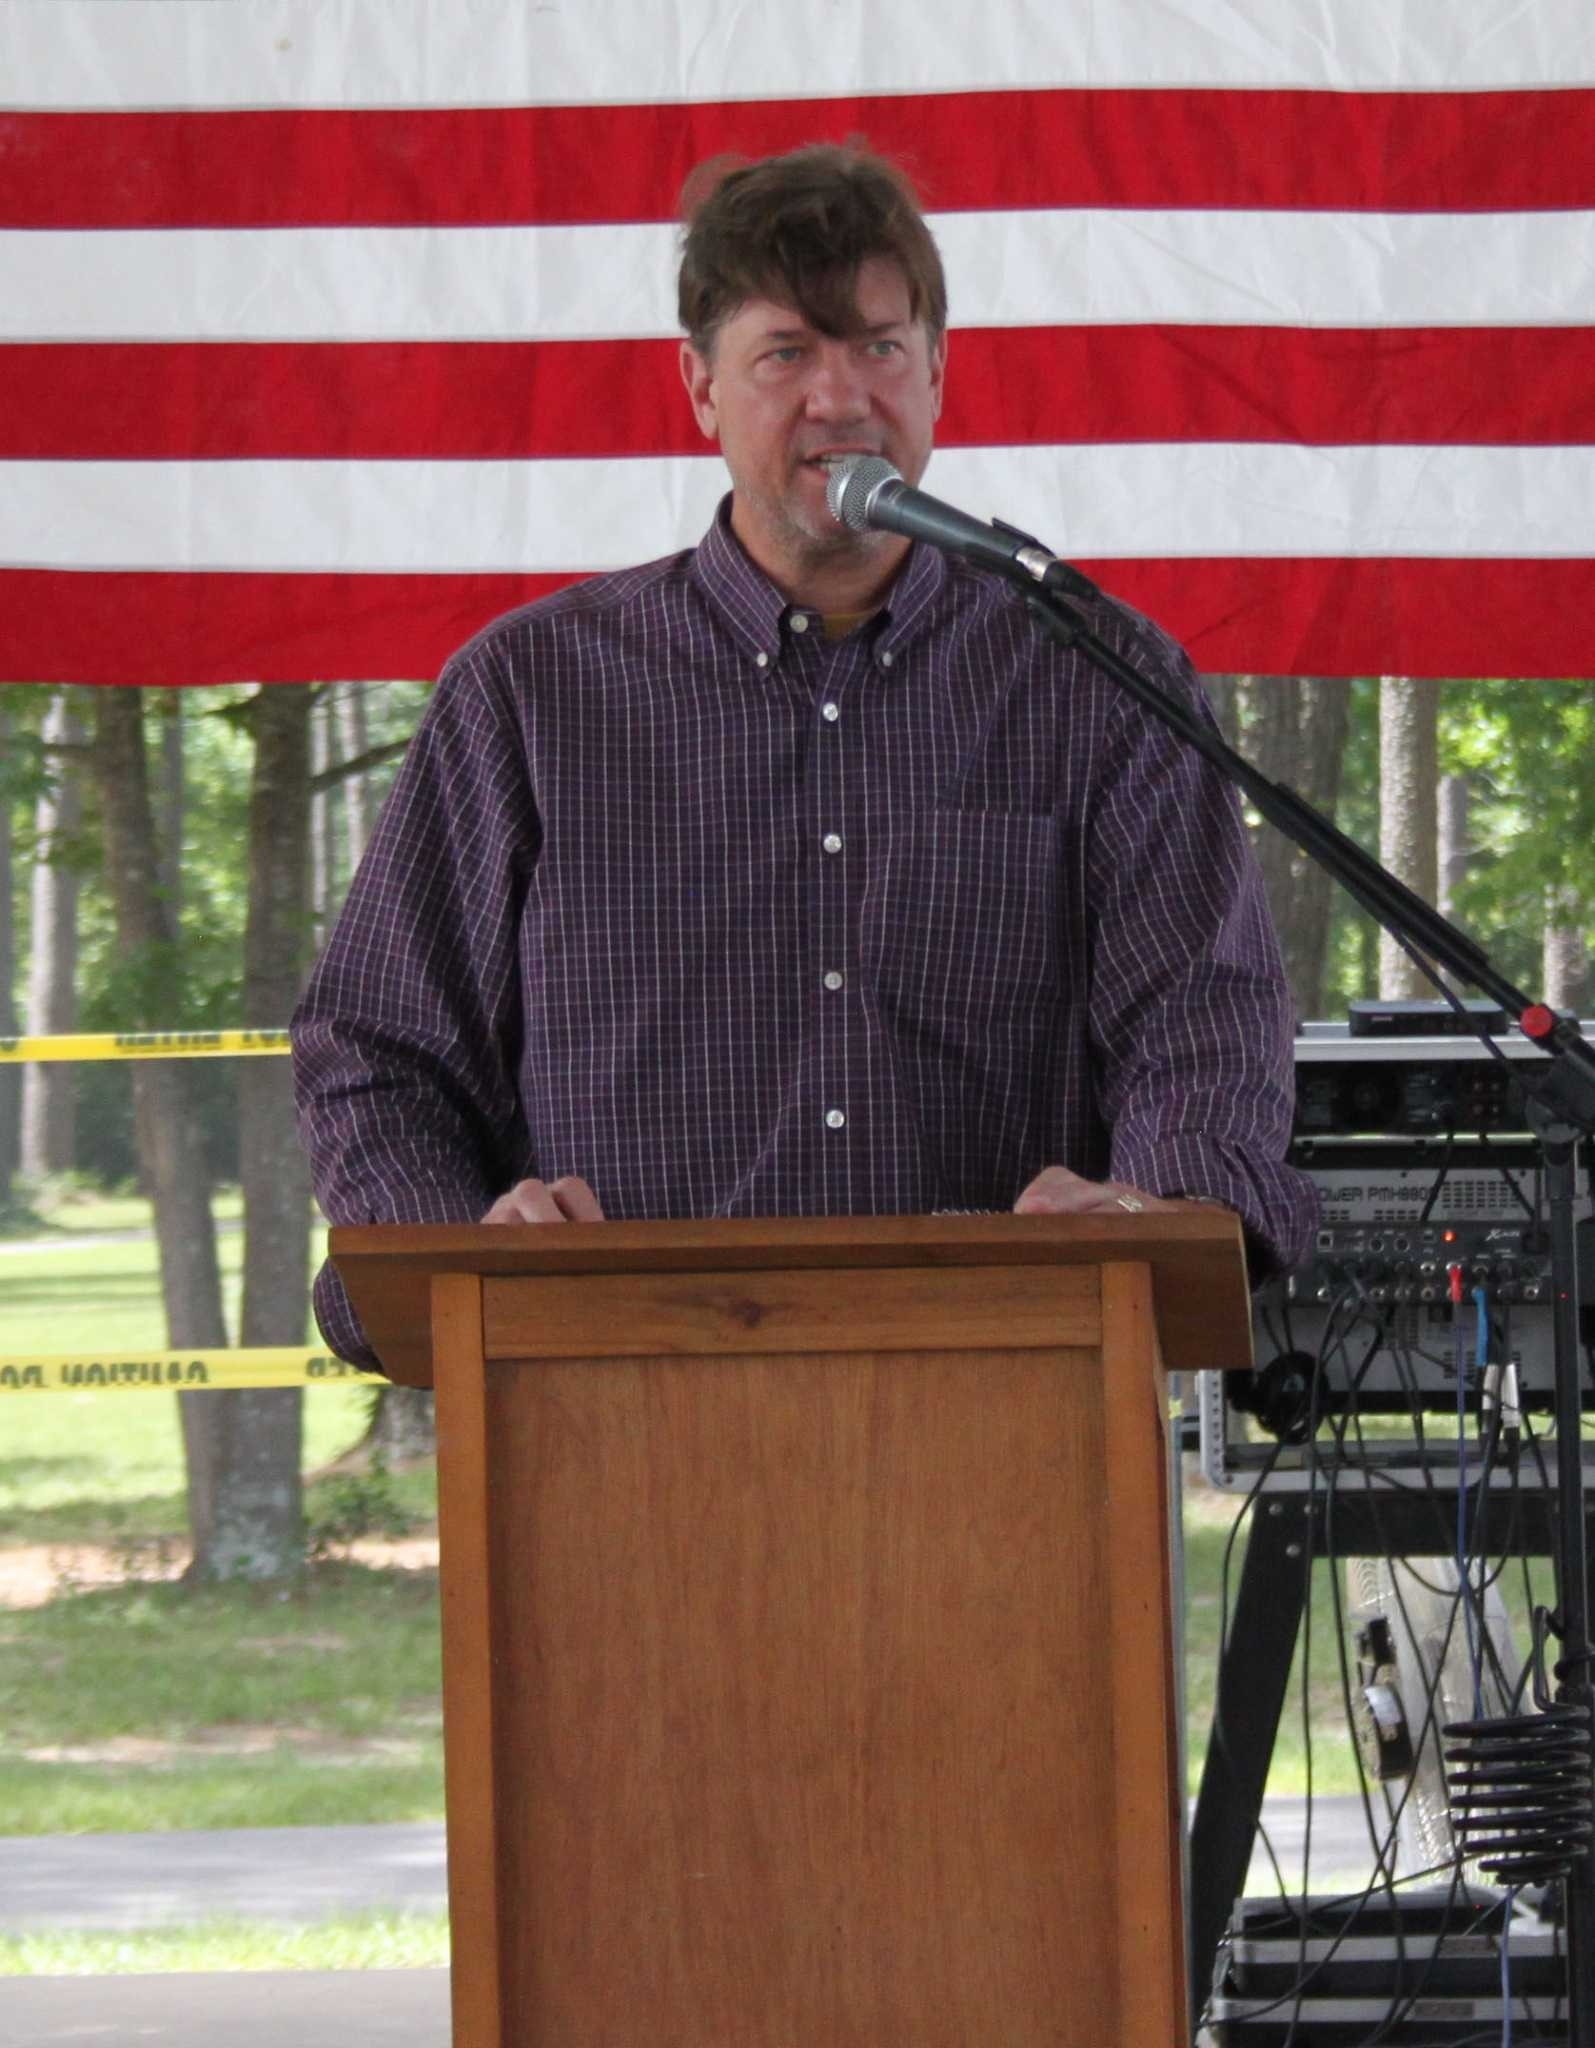face_no_mask: (677, 163, 946, 533)
